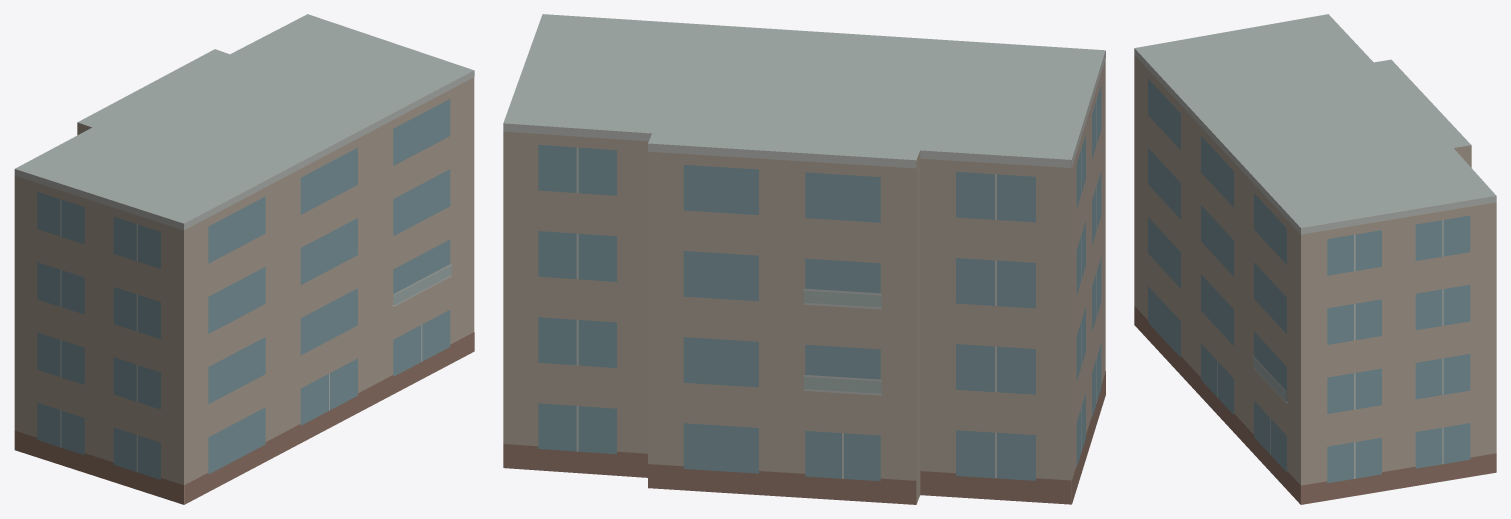
The model's file is survey-upis-32885398.glb.
3 views of the same model, side by side, from view 1: azimuth 30°, elevation 25°; view 2: azimuth 150°, elevation 25°; view 3: azimuth 270°, elevation 25° (orthographic). The views are drawn at different scales.
Parts seen in each view (by area): view 1: survey-upis-32885398.tmp; view 2: survey-upis-32885398.tmp; view 3: survey-upis-32885398.tmp.
Part boxes in pixels (<box>): survey-upis-32885398.tmp: <box>14,14,474,504</box>; survey-upis-32885398.tmp: <box>503,14,1105,504</box>; survey-upis-32885398.tmp: <box>1134,14,1496,504</box>.
Size of the model in its own units: 17.1 by 10.3 by 12.23.
